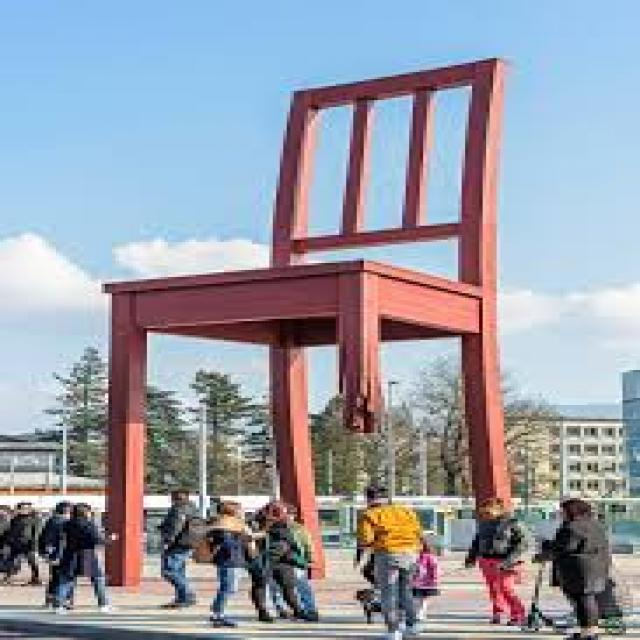chair: (97, 53, 520, 584)
